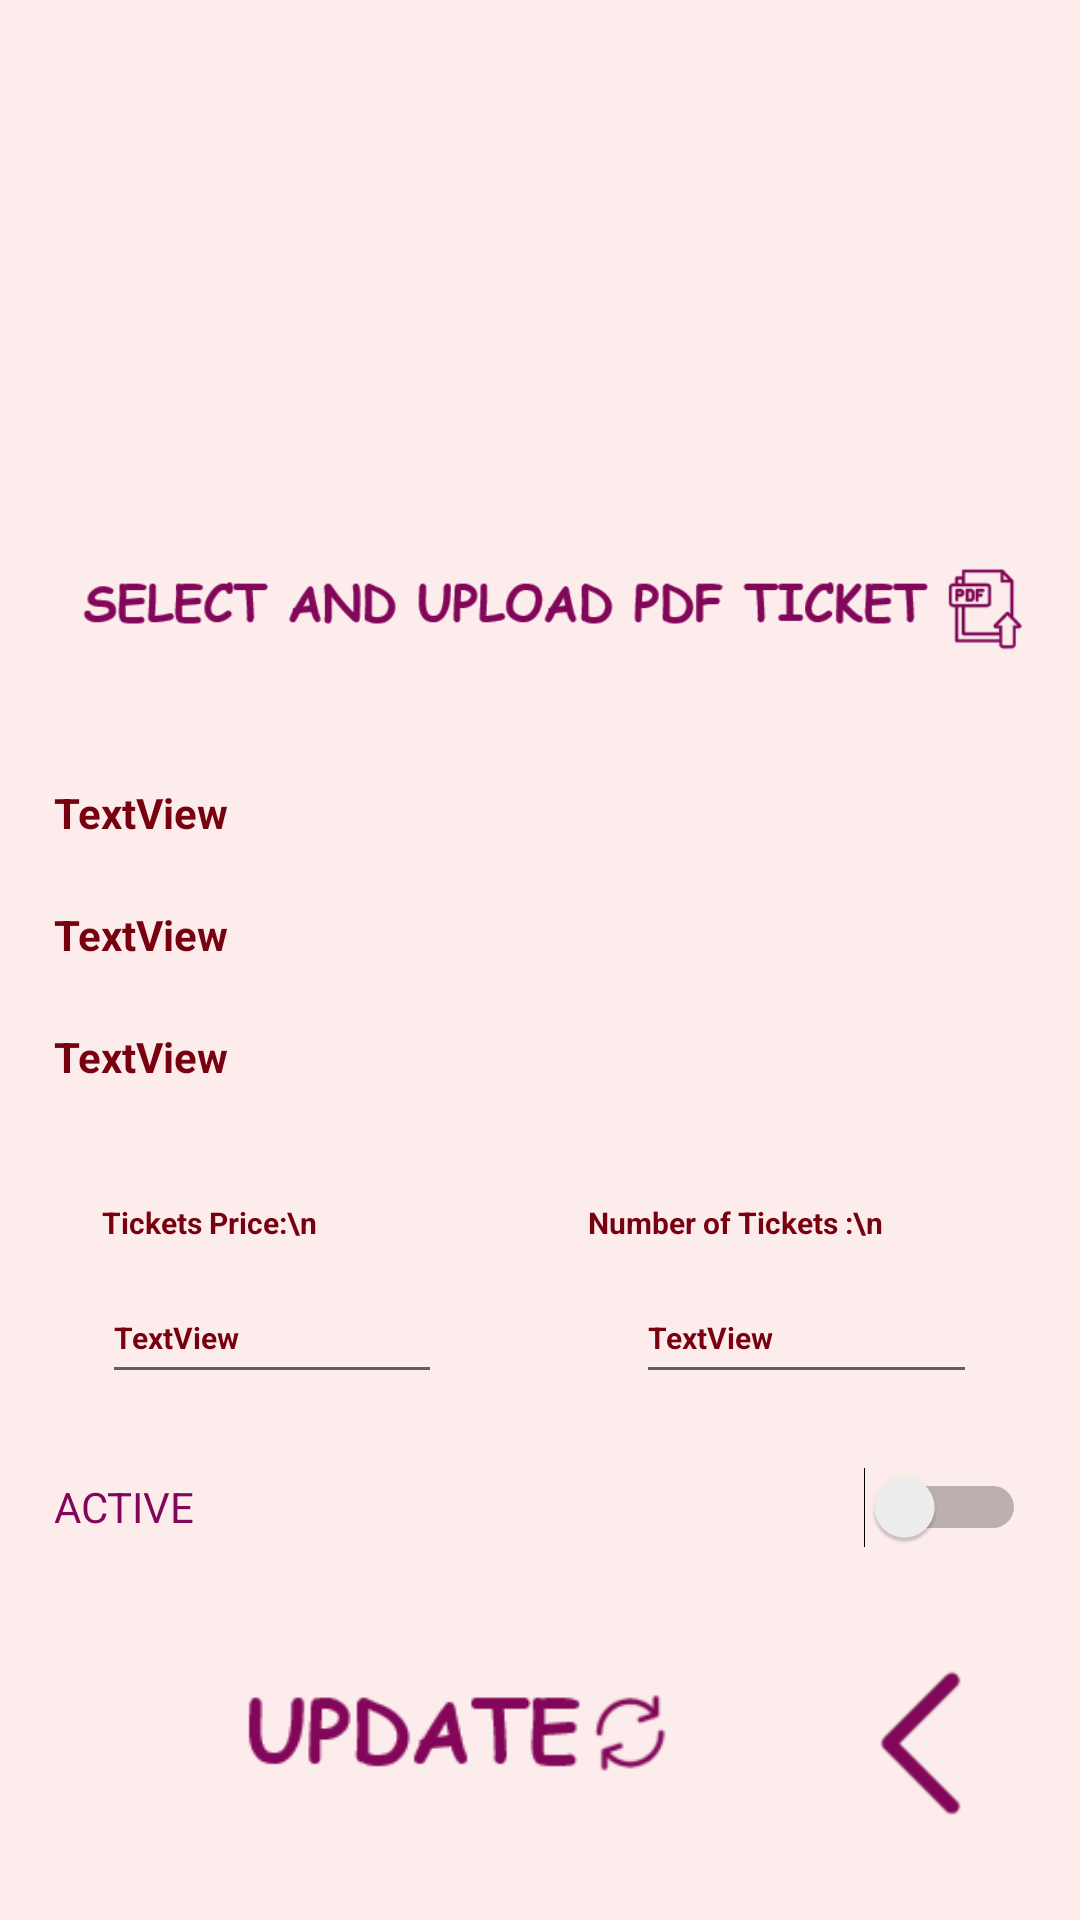

Named icons in this screenshot (1080px×1920px) and their bounding boxes, (x1, y1, x2, y2):
back: (880, 1672, 961, 1815)
